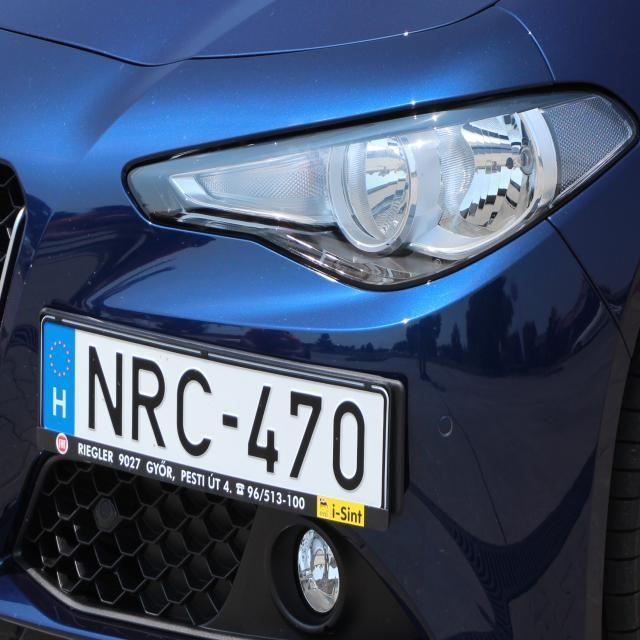licence: (37, 309, 404, 537)
